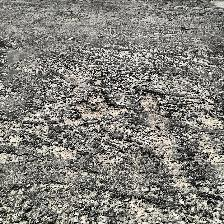pothole: (72, 90, 118, 118), (138, 91, 158, 111)
